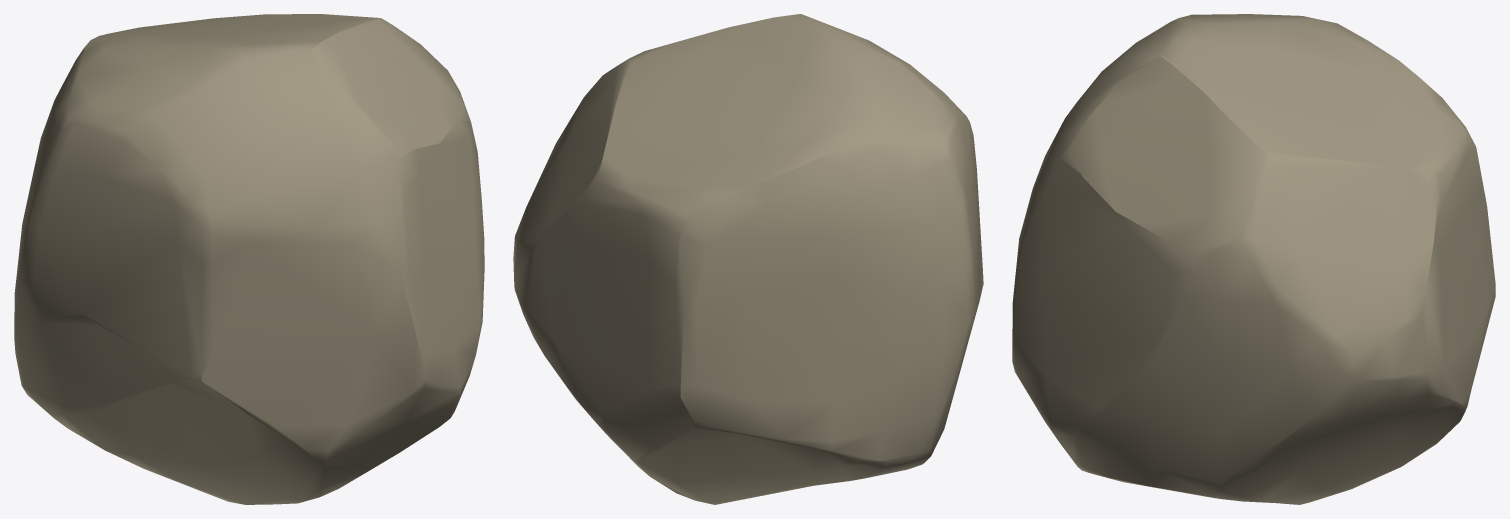
File: Rock-cg6yBEddtZ.glb
The picture shows the model from 3 angles, left to right: view 1: azimuth 30°, elevation 25°; view 2: azimuth 150°, elevation 25°; view 3: azimuth 270°, elevation 25°; orthographic projection. The views are drawn at different scales.
Parts seen in each view (by area): view 1: Environment_Rock_5; view 2: Environment_Rock_5; view 3: Environment_Rock_5.
Part boxes in pixels (box(x1,y1,x2,y2)): Environment_Rock_5: box(14, 14, 484, 504); Environment_Rock_5: box(513, 14, 983, 504); Environment_Rock_5: box(1012, 14, 1495, 504).
Bounding box in the file's own units: 0.6053 × 0.6046 × 0.5856.
Materials: 1 (1 with a texture image).
